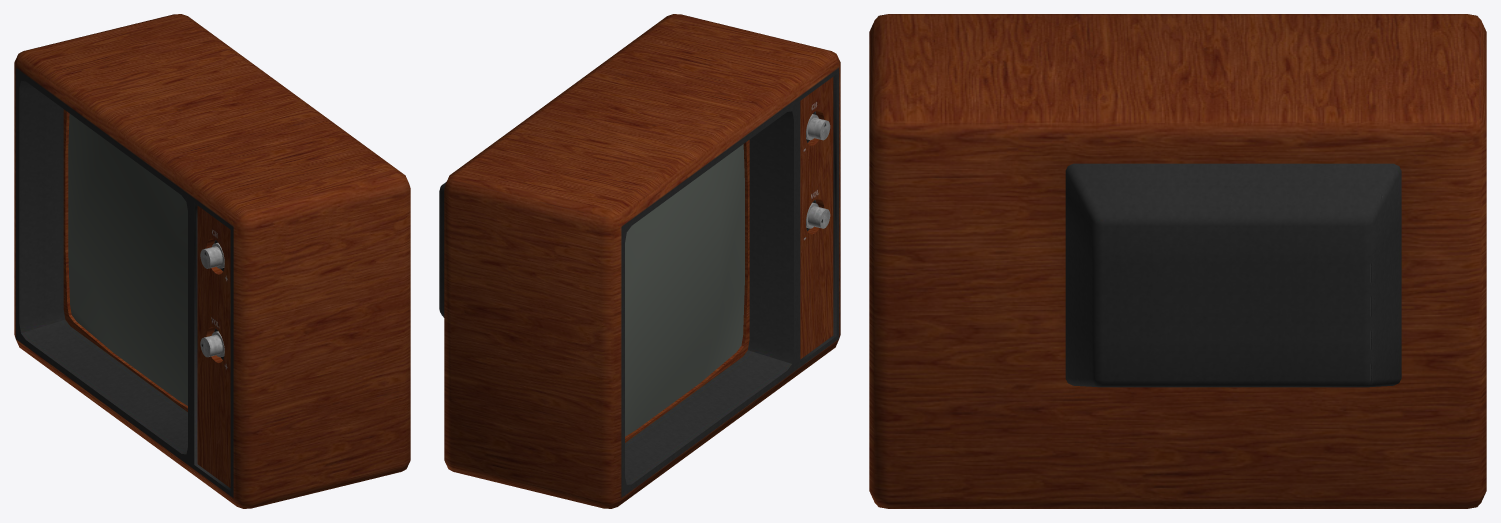
File: 0LObUaFORglEuBnAK1k4NTgtAll1gP2jjoZ9BlYA.glb
3 views of the same model, side by side, from view 1: azimuth 30°, elevation 25°; view 2: azimuth 150°, elevation 25°; view 3: azimuth 270°, elevation 25° (orthographic). The views are drawn at different scales.
Parts seen in each view (by area): view 1: ChamferBox001, kurki; view 2: ChamferBox001, kurki; view 3: ChamferBox001.
Boxes of the visible parts, x1=… form: ChamferBox001: x1=14, y1=14, x2=410, y2=508; kurki: x1=200, y1=242, x2=224, y2=357; ChamferBox001: x1=439, y1=14, x2=840, y2=508; kurki: x1=806, y1=114, x2=830, y2=228; ChamferBox001: x1=869, y1=14, x2=1486, y2=508.
Size of the model in its own units: 1.13 by 1.42 by 2.
1 material, 1 textured.
